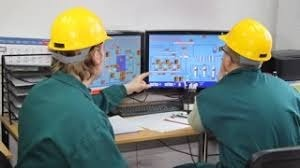helmet: (44, 1, 120, 55), (216, 15, 278, 63)
person with partial safety: (32, 3, 137, 162), (199, 14, 300, 148)
